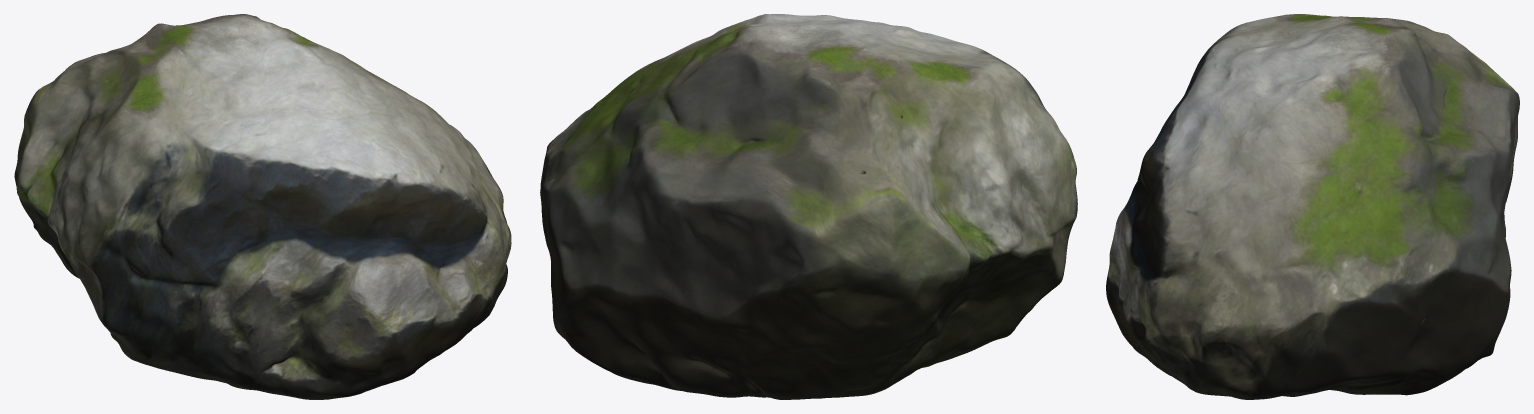
The model's file is tree_c.glb.
The picture shows the model from 3 angles, left to right: view 1: azimuth 30°, elevation 25°; view 2: azimuth 150°, elevation 25°; view 3: azimuth 270°, elevation 25°; orthographic projection. The views are drawn at different scales.
Bounding box in the file's own units: 2 × 1.34 × 1.72.
Materials: 1 (1 with a texture image).
